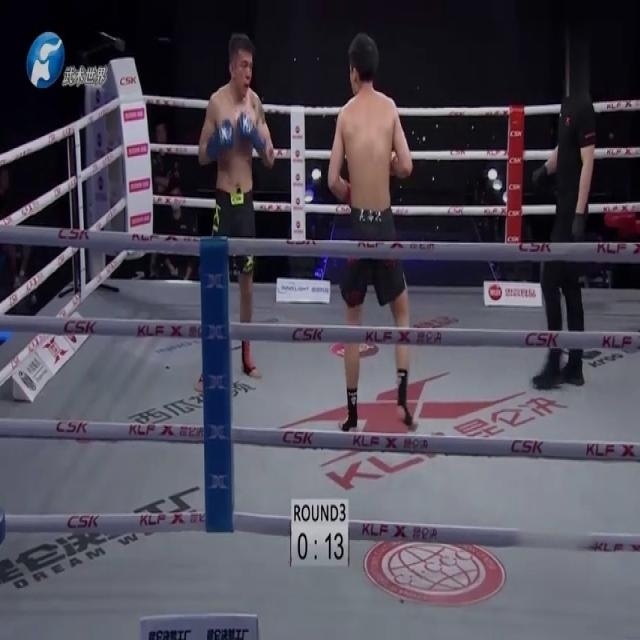fight: (198, 31, 420, 428)
non-fight: (530, 84, 598, 391)
